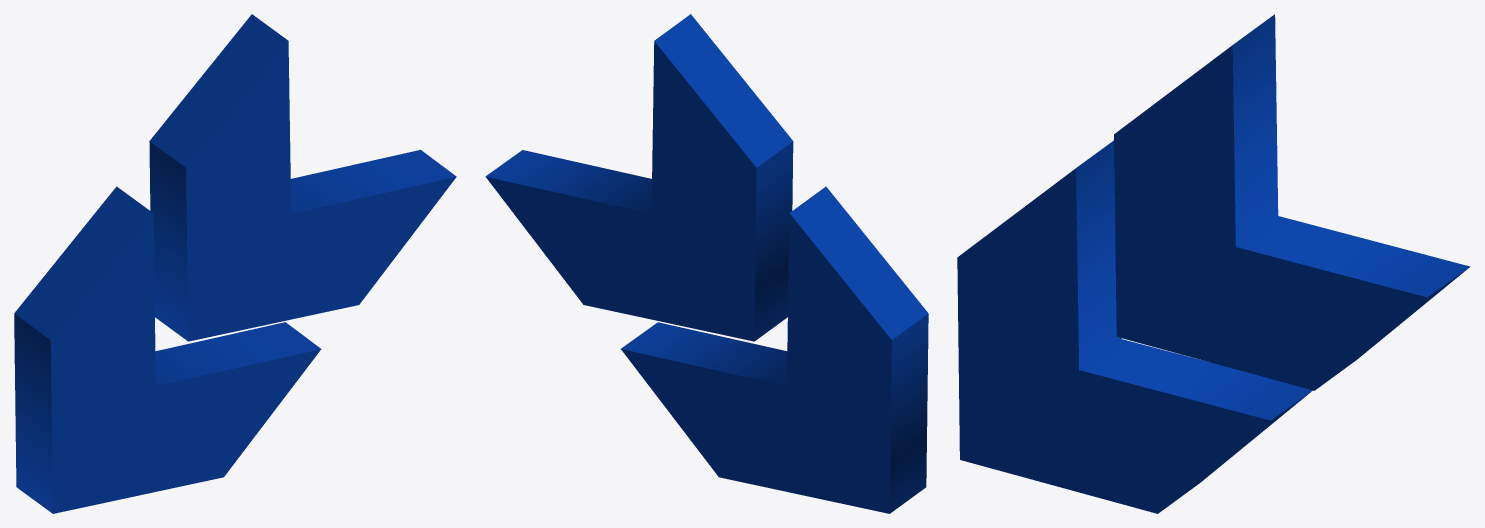
The model's file is SlowAnim.fbx.
3 views of the same model, side by side, from view 1: azimuth 30°, elevation 25°; view 2: azimuth 150°, elevation 25°; view 3: azimuth 330°, elevation 25° (orthographic). The views are drawn at different scales.
Visible parts, largest first — view 1: Slow; view 2: Slow; view 3: Slow.
Boxes of the visible parts, x1,y1,x2,y2 form: Slow: (14,14,456,513); Slow: (485,14,928,513); Slow: (957,14,1469,513).
Size of the model in its own units: 6.41 by 6.34 by 1.
